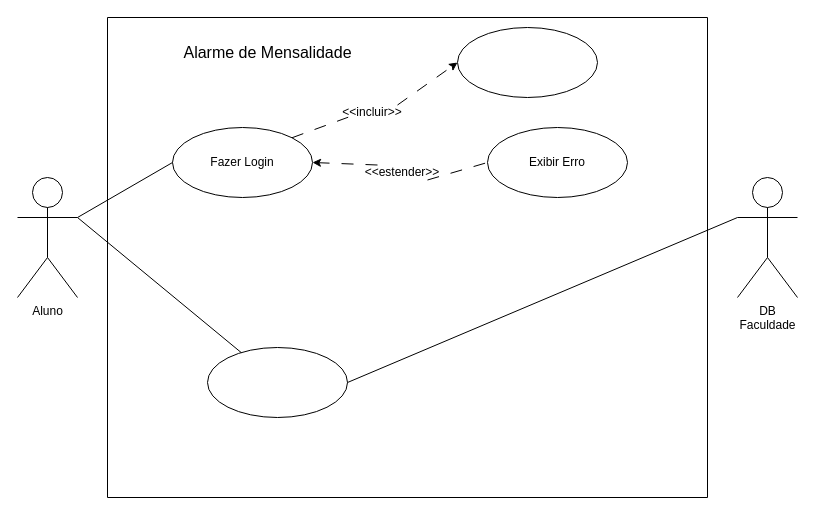
Some shapes in this 815 by 523 pixel diagram are drawn without their labels. The shapes that lost their labels are listed below. From the top down, each one's centre as x and y in pixels, then its label:
At point (527, 62): "Verificar Senha".
At point (277, 382): "Consultar Mensalidade".
